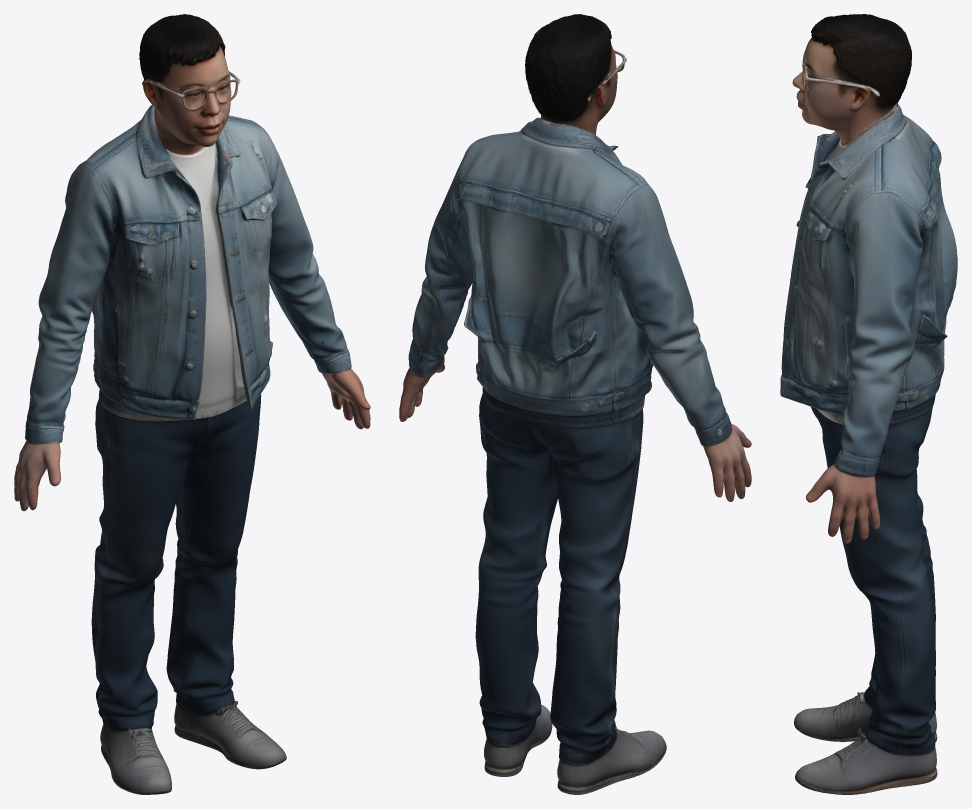
File: Meshy_AI_Giajun_0310194618_texture.glb
3 renders of one model, left to right at view 1: azimuth 30°, elevation 25°; view 2: azimuth 150°, elevation 25°; view 3: azimuth 270°, elevation 25°, orthographic.
Bounding box in the file's own units: 0.9189 × 1.9 × 0.4122.
Materials: 1 (1 with a texture image).
